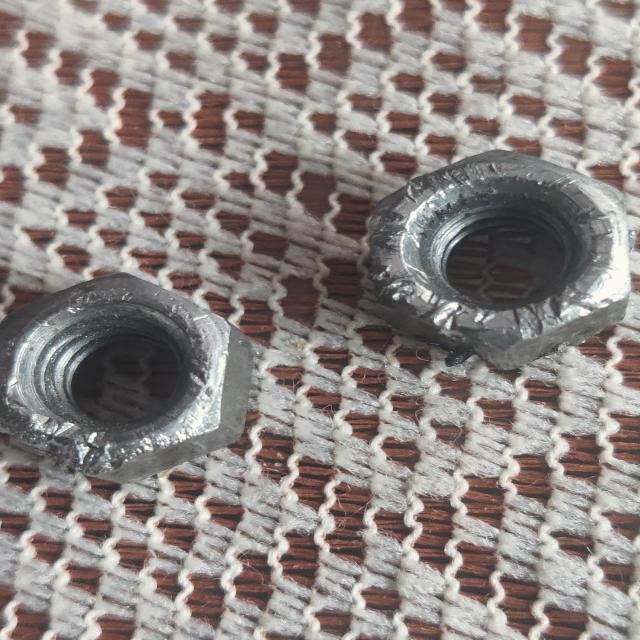infected nut: (370, 150, 630, 370), (0, 272, 253, 482)
